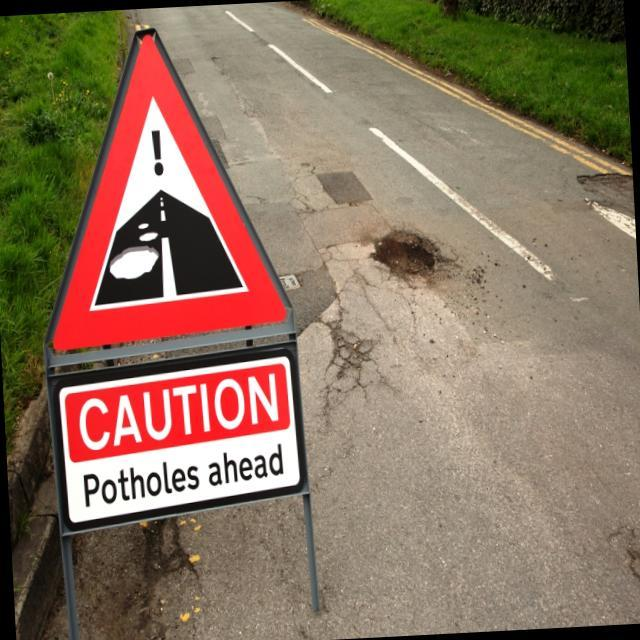Pothole: (366, 227, 440, 290), (568, 165, 634, 222), (313, 162, 377, 212)
